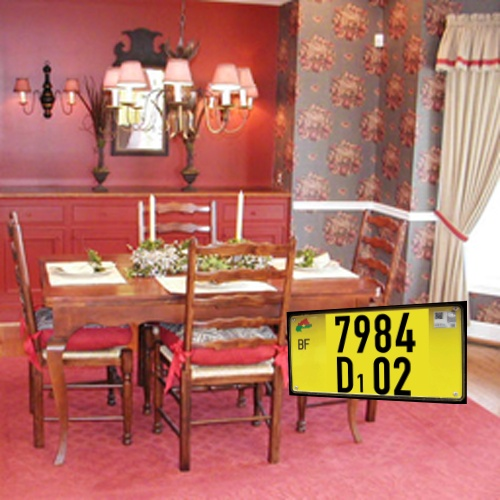plate: (274, 287, 479, 420)
